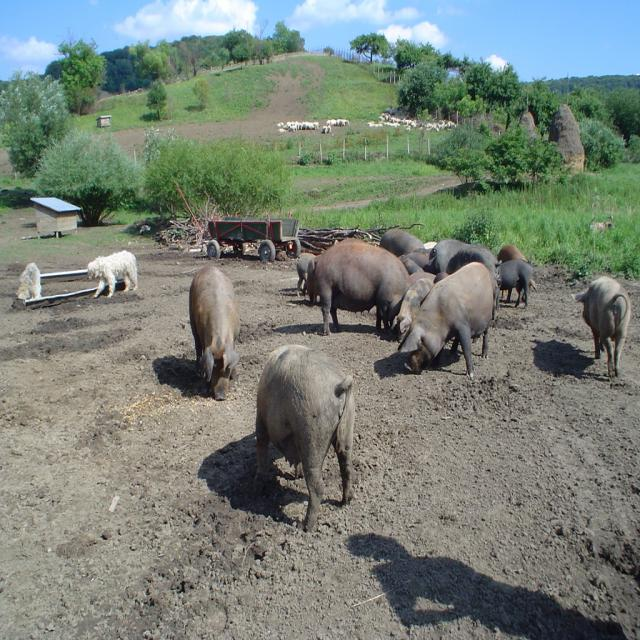Pig: (294, 226, 537, 379), (254, 342, 356, 533), (188, 264, 240, 398), (568, 277, 628, 375)
